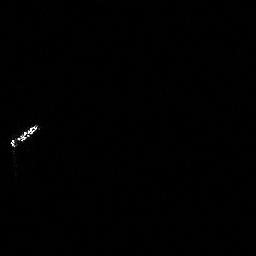ship: (6, 120, 43, 150)
